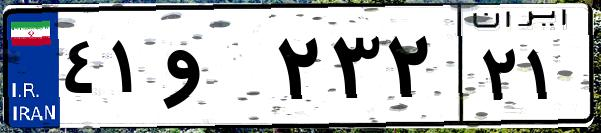1: (525, 38, 570, 115), (110, 28, 158, 98)
2: (270, 28, 330, 110), (385, 28, 445, 110), (475, 38, 525, 113)
3: (330, 28, 385, 110)
4: (57, 26, 110, 100)
و: (158, 20, 270, 120)
